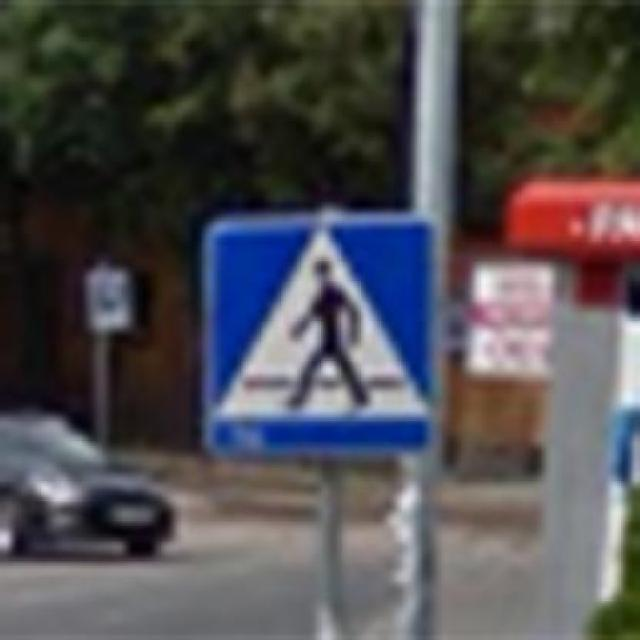Przejscie dla pieszych: (197, 210, 441, 458)
